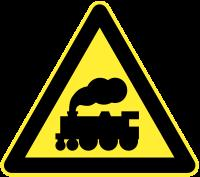Barrier Ahead: (15, 10, 189, 169)
